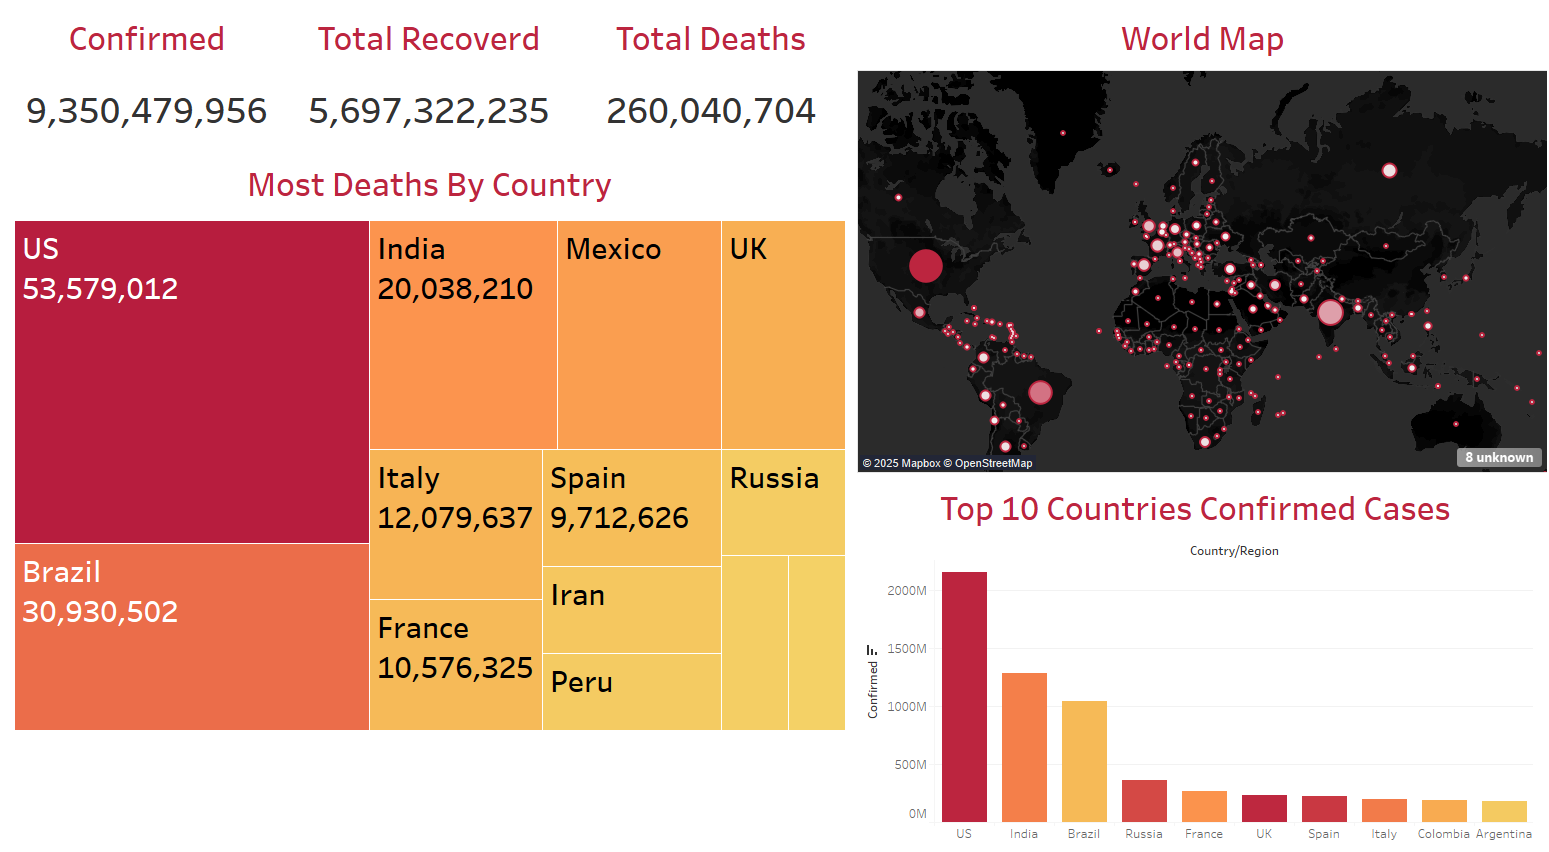

Layout of this report page (visuals, bound fields, positions):
{"tool":"tableau","page":{"name":"COVID-19_Analysis","canvas":[1000,1000],"units":"permille","ordinal":0},"visuals":[{"type":"worksheet","title":"Confirmed","mark":"Automatic","box":[4.7,9.3,165.1,170.6]},{"type":"worksheet","title":"Total Recoverd","mark":"Automatic","box":[169.8,9.3,165.1,170.6]},{"type":"worksheet","title":"Total Deaths","mark":"Automatic","box":[334.9,9.3,165.1,170.6]},{"type":"worksheet","title":"World Map","mark":"Automatic","box":[500,9.3,408.3,549.1]},{"type":"legend","title":"World Map","param":"[federated.06ia8qx1ngspdq1584r8j0bvcajq].[sum:Deaths:qk]","box":[908.3,9.3,87,75.9]},{"type":"legend","title":"Top 10 Countries Confirmed Cases","param":"[federated.06ia8qx1ngspdq1584r8j0bvcajq].[none:Country/Region:nk]","box":[908.3,85.3,87,264]},{"type":"worksheet","title":"Most Deaths By Country","mark":"Automatic","box":[4.7,179.9,495.3,810.7]},{"type":"worksheet","title":"Top 10 Countries Confirmed Cases","mark":"Automatic","rows":["Confirmed"],"cols":["Country/Region"],"box":[500,558.4,400.2,432.2]}]}

Visuals, with their boxes on the dashboard's canvas, which has no fixed pixel size, in thousandths of its width and height (x1, y1, x2, y2). These are canvas units, not pixel positions in the 1549x852 screenshot, which may show the page scaled, cropped or inside an application window:
"Confirmed" worksheet: region(5, 9, 170, 180)
"Total Recoverd" worksheet: region(170, 9, 335, 180)
"Total Deaths" worksheet: region(335, 9, 500, 180)
"World Map" worksheet: region(500, 9, 908, 558)
"World Map" legend: region(908, 9, 995, 85)
"Top 10 Countries Confirmed Cases" legend: region(908, 85, 995, 349)
"Most Deaths By Country" worksheet: region(5, 180, 500, 991)
"Top 10 Countries Confirmed Cases" worksheet: region(500, 558, 900, 991)
